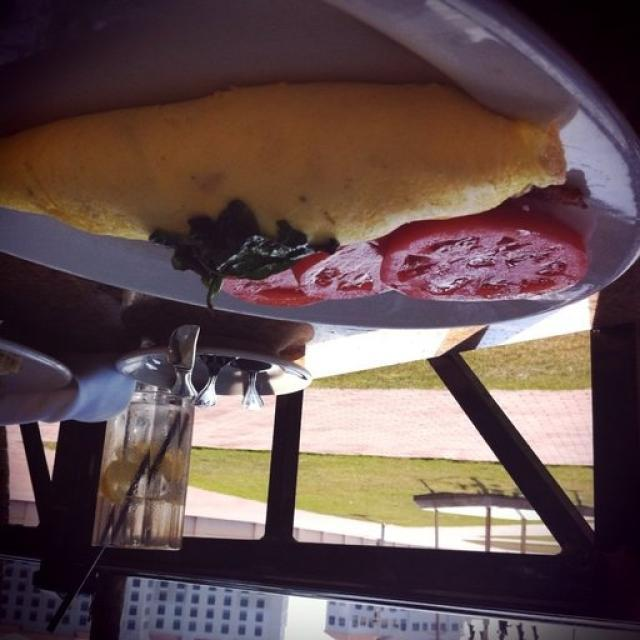telur_ayam_dadar: (0, 78, 568, 269)
